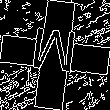M_S: (29, 27, 81, 83)
